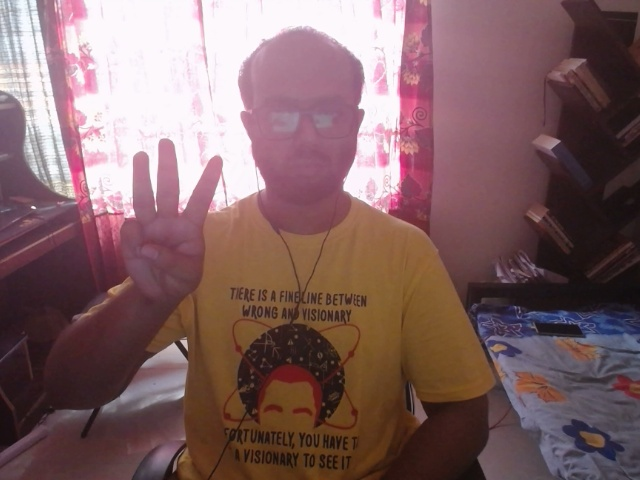three: (118, 113, 239, 323)
